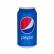can: (14, 3, 42, 50)
